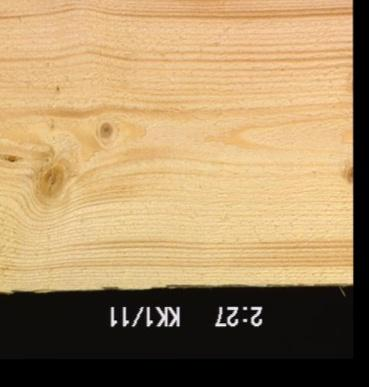sound_knot: (33, 164, 67, 200), (95, 118, 115, 144), (341, 164, 352, 187)
